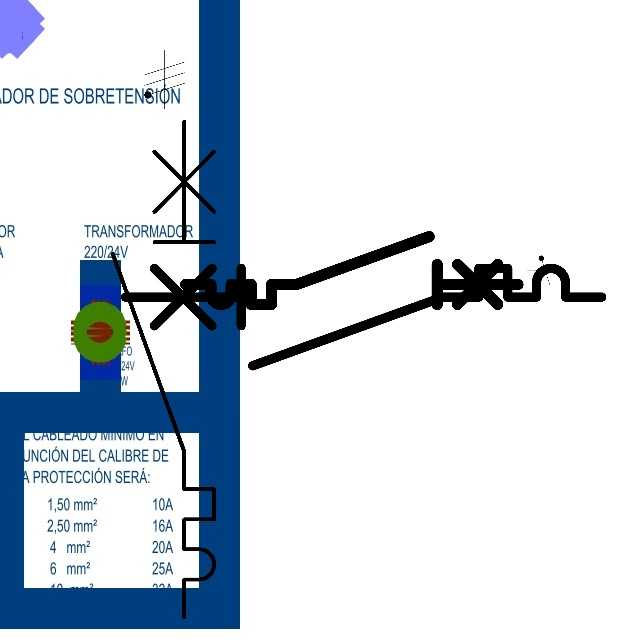interruptor_termomagnetico: (100, 108, 227, 629), (113, 256, 614, 378), (177, 228, 526, 313)
